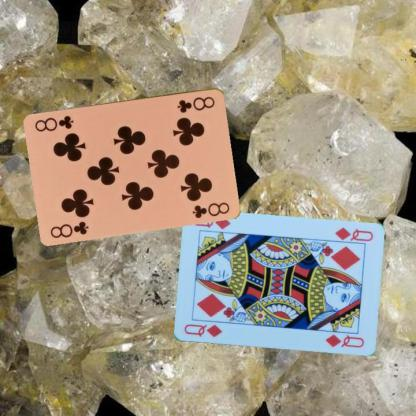8c: (48, 218, 90, 239), (175, 93, 216, 114)
Qd: (329, 225, 374, 246), (181, 322, 223, 338)
